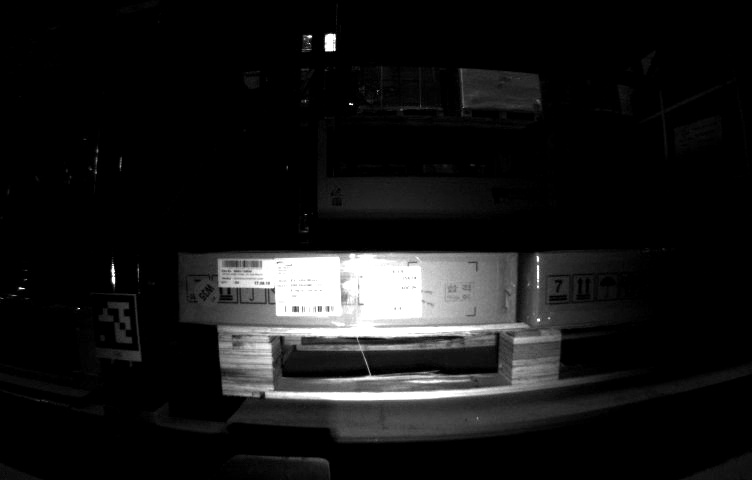True Barcode: (275, 260, 342, 314)
